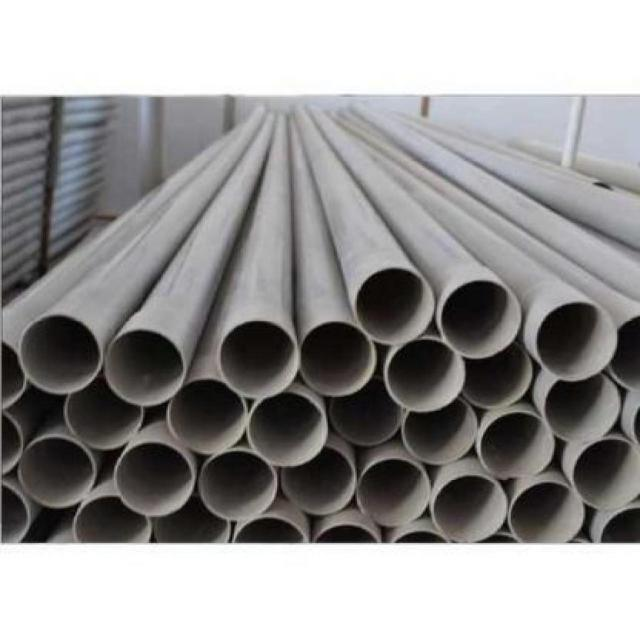pipe: (18, 313, 103, 395), (536, 301, 619, 382), (440, 278, 522, 359), (218, 319, 299, 398), (247, 389, 329, 466), (354, 268, 436, 344), (113, 441, 195, 517), (105, 330, 185, 407), (168, 378, 247, 455), (383, 339, 465, 412), (300, 321, 377, 396), (65, 376, 144, 449), (19, 436, 98, 509), (199, 449, 278, 520), (433, 474, 510, 544), (542, 374, 621, 442), (356, 457, 431, 527), (479, 411, 556, 479), (280, 446, 357, 514), (330, 377, 404, 447), (571, 436, 639, 512), (402, 399, 478, 464), (463, 342, 534, 410), (508, 481, 584, 544), (72, 496, 151, 544), (154, 497, 231, 545), (0, 480, 36, 545)
